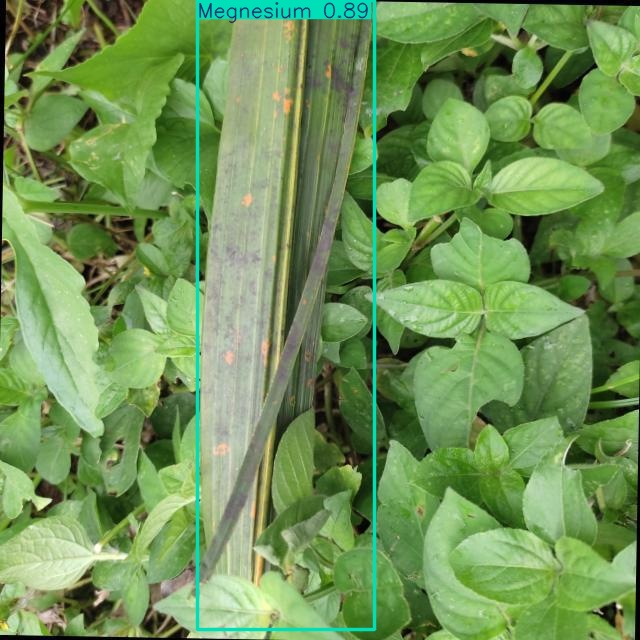Megnesium: (198, 1, 375, 629)
